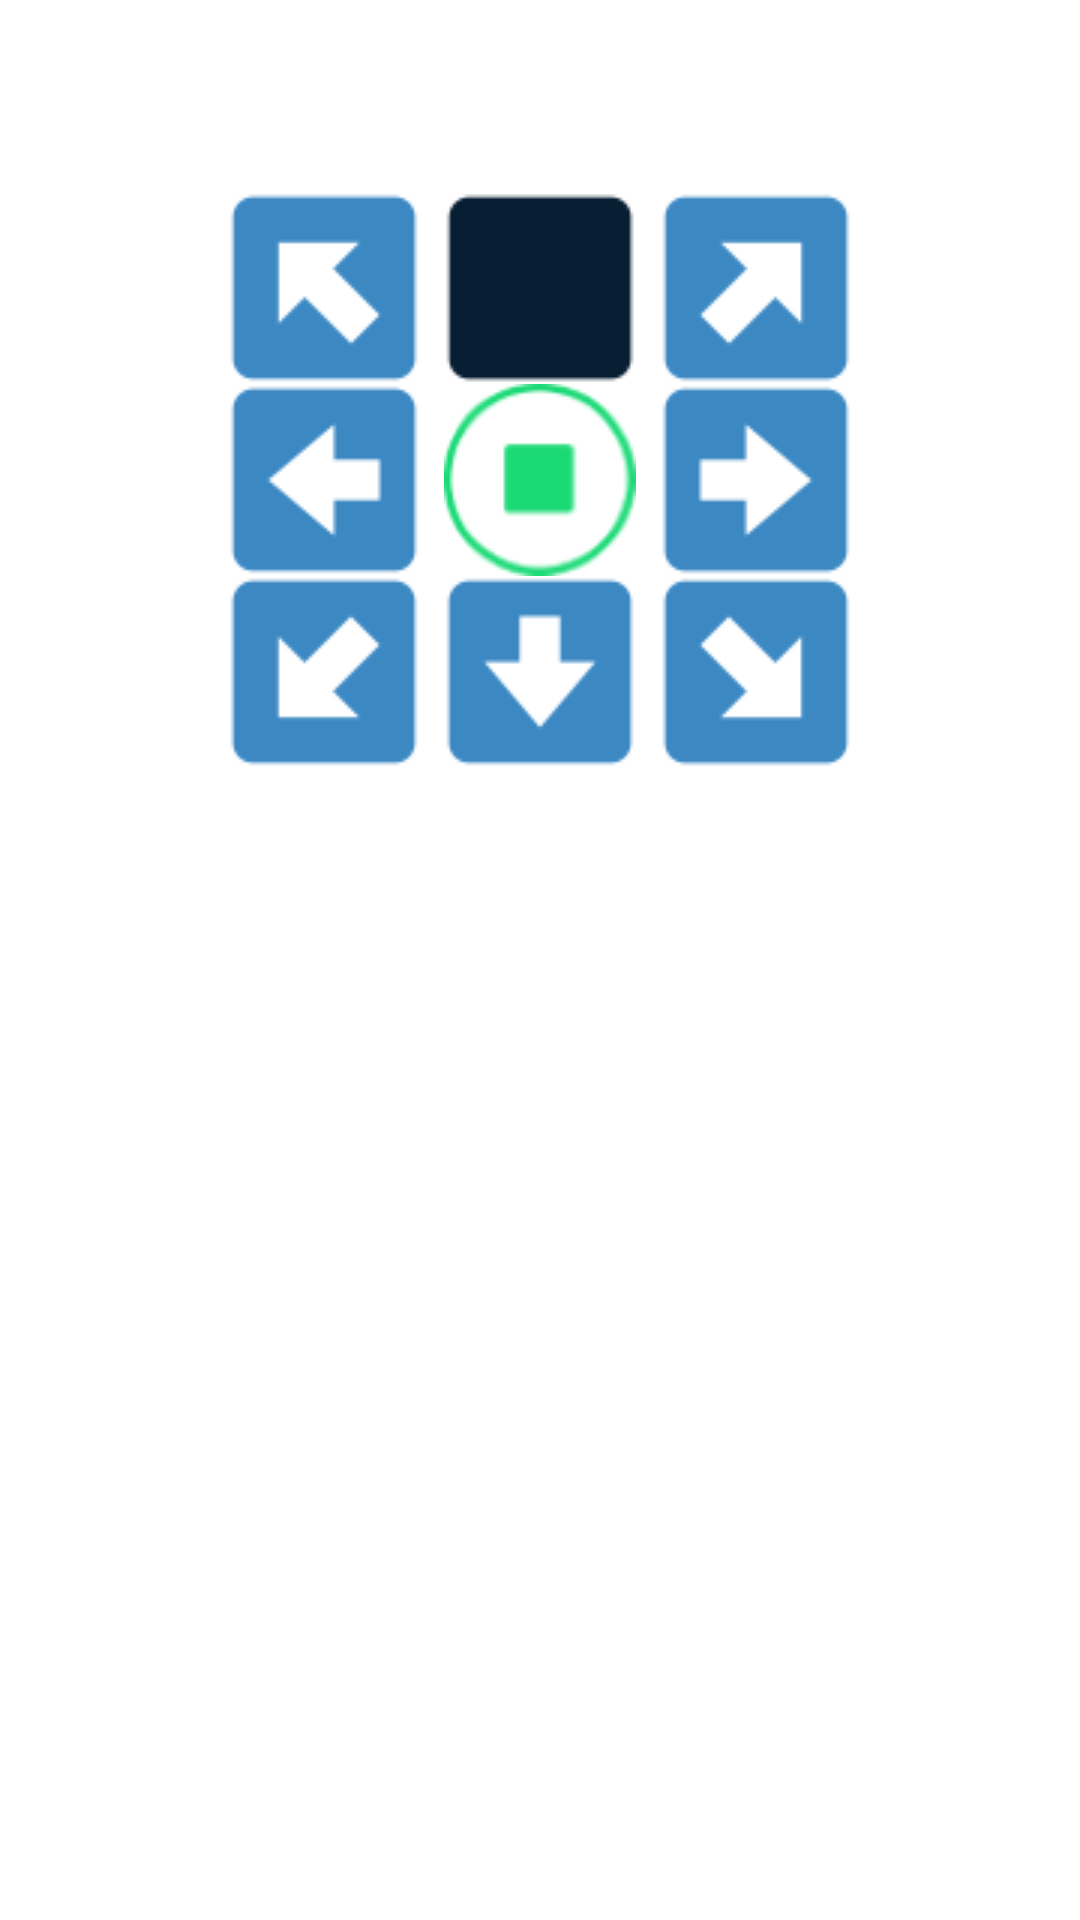

Where to tap for icons on this 1080px x 1920px app screen, as point (x, y):
back: point (540, 672)
back left: point (324, 672)
back right: point (756, 672)
FL: point (324, 288)
front right: point (756, 288)
left: point (324, 480)
right: point (756, 480)
stop: point (540, 480)
